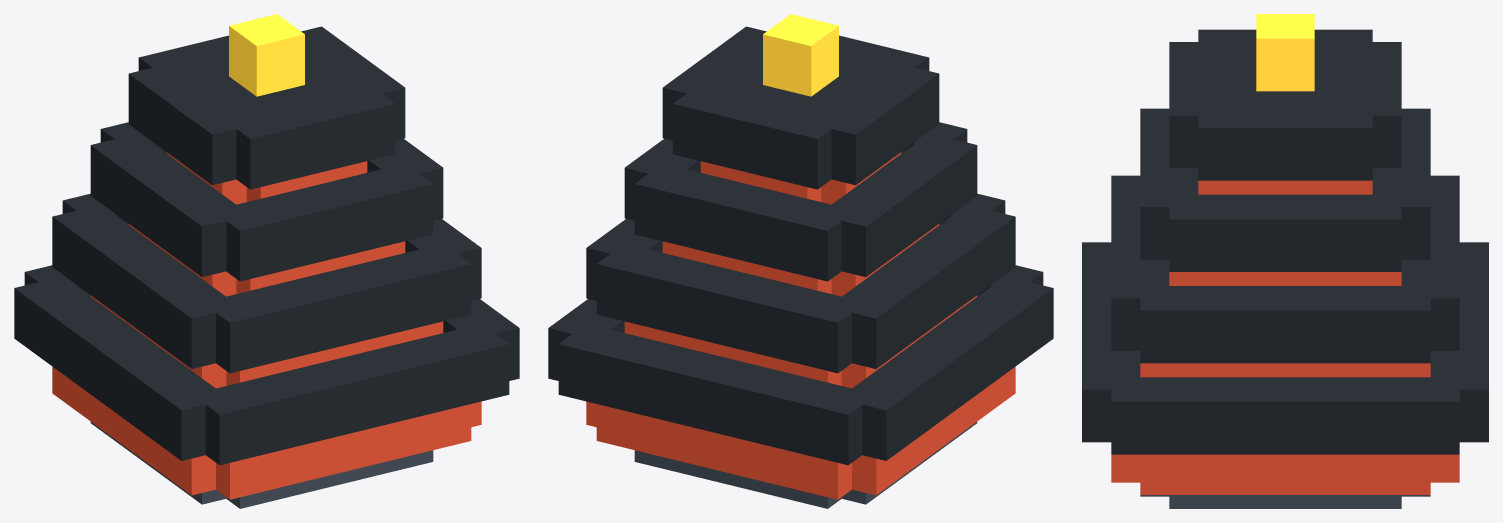
File: voxel-pagoda.glb
The picture shows the model from 3 angles, left to right: view 1: azimuth 30°, elevation 25°; view 2: azimuth 150°, elevation 25°; view 3: azimuth 270°, elevation 25°; orthographic projection. The views are drawn at different scales.
Visible parts, largest first — view 1: pagoda; view 2: pagoda; view 3: pagoda.
Boxes of the visible parts, x1,y1,x2,y2 form: pagoda: (14,14,519,508); pagoda: (548,14,1053,508); pagoda: (1082,14,1488,508).
Size of the model in its own units: 2.1 by 2.4 by 2.1.
